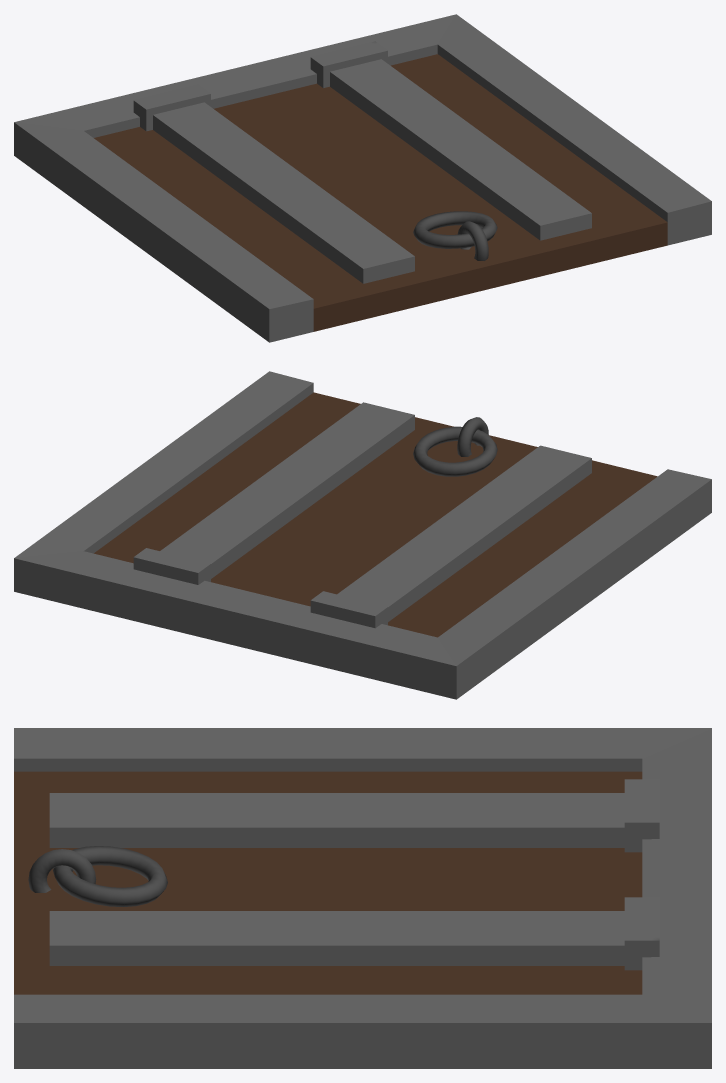
File: trapdoor.gltf
3 renders of one model, top to bottom at view 1: azimuth 30°, elevation 25°; view 2: azimuth 150°, elevation 25°; view 3: azimuth 270°, elevation 25°, orthographic. The views are drawn at different scales.
Visible parts, largest first — view 1: Plane; view 2: Plane; view 3: Plane.
Boxes of the visible parts, <box> form: Plane: <box>14,14,711,342</box>; Plane: <box>14,371,711,699</box>; Plane: <box>14,728,711,1068</box>.
Bounding box in the file's own units: 2 × 0.2287 × 2.
1 material, 1 textured.
